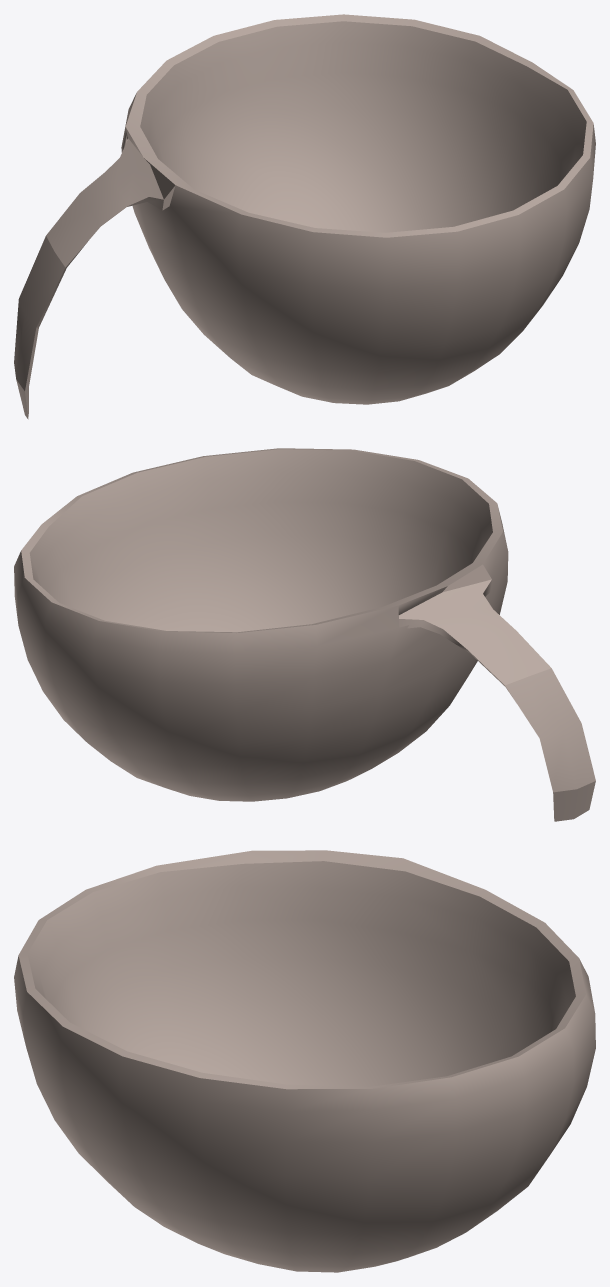
Rendered from コップ.fbx.
The picture shows the model from 3 angles, top to bottom: view 1: azimuth 30°, elevation 25°; view 2: azimuth 150°, elevation 25°; view 3: azimuth 270°, elevation 25°; orthographic projection. The views are drawn at different scales.
Visible parts, largest first — view 1: pSphere1; view 2: pSphere1; view 3: pSphere1.
Boxes of the visible parts, x1,y1,x2,y2 form: pSphere1: (14, 14, 595, 419); pSphere1: (14, 448, 595, 821); pSphere1: (14, 850, 595, 1272).
Size of the model in its own units: 0.9569 by 0.4354 by 0.8011.
